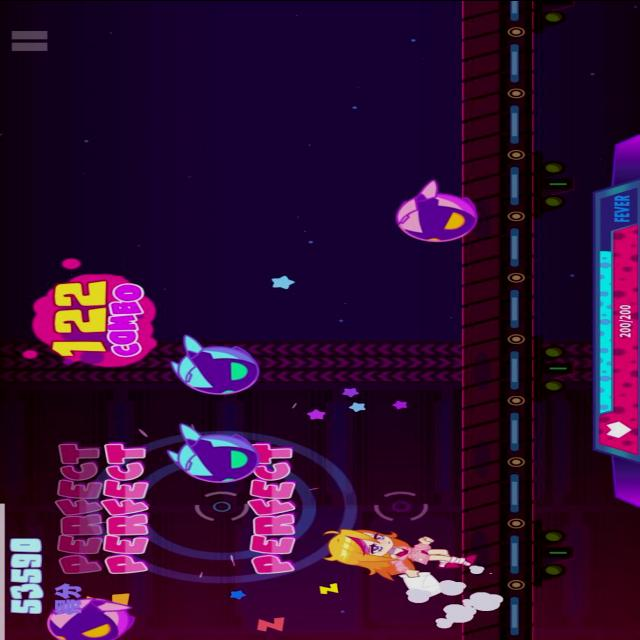jiqiqiu: (388, 176, 488, 244), (161, 422, 265, 482), (167, 333, 271, 393), (42, 588, 136, 640)
